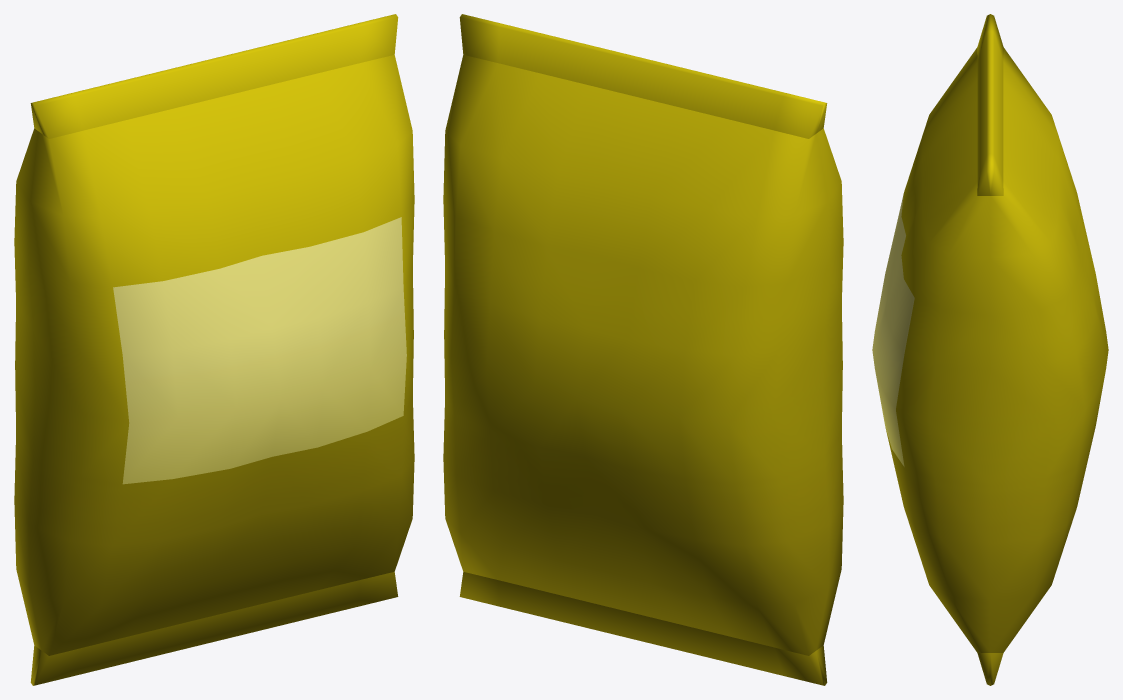
The model's file is Flow_pack_03.fbx.
3 views of the same model, side by side, from view 1: azimuth 30°, elevation 25°; view 2: azimuth 150°, elevation 25°; view 3: azimuth 270°, elevation 25° (orthographic). The views are drawn at different scales.
Parts seen in each view (by area): view 1: Flow_pack_03; view 2: Flow_pack_03; view 3: Flow_pack_03.
Part boxes in pixels (x1=…): Flow_pack_03: x1=14, y1=14, x2=414, y2=685; Flow_pack_03: x1=443, y1=14, x2=843, y2=685; Flow_pack_03: x1=872, y1=14, x2=1108, y2=685.
Size of the model in its own units: 174 by 109 by 261.
